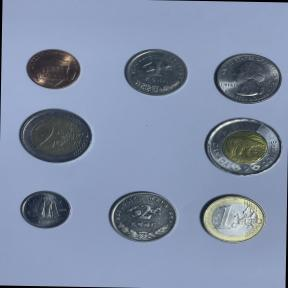coin: (197, 112, 286, 180), (14, 104, 98, 168), (208, 50, 286, 107), (106, 188, 180, 246), (197, 190, 269, 246), (21, 44, 86, 92), (16, 186, 78, 233)
